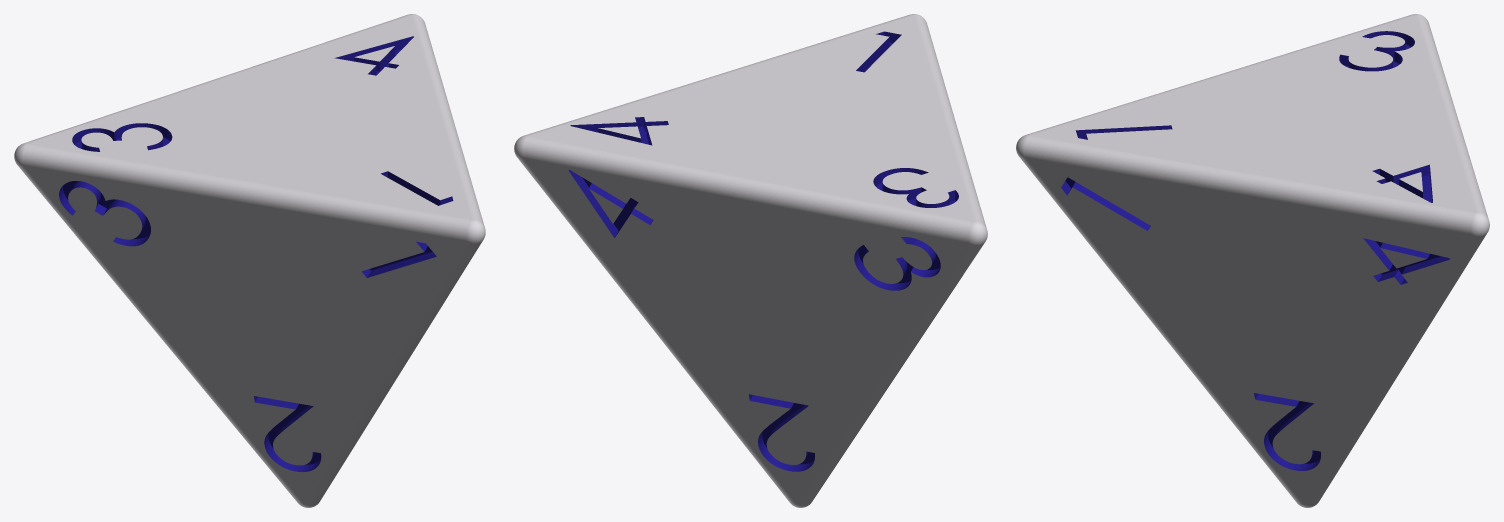
The model's file is Newdadu.fbx.
3 renders of one model, left to right at view 1: azimuth 30°, elevation 25°; view 2: azimuth 150°, elevation 25°; view 3: azimuth 270°, elevation 25°, orthographic.
Parts seen in each view (by area): view 1: 4-faces-chiffres; view 2: 4-faces-chiffres; view 3: 4-faces-chiffres.
Part boxes in pixels (bbox=[...]): 4-faces-chiffres: bbox=[14, 14, 485, 507]; 4-faces-chiffres: bbox=[514, 14, 987, 507]; 4-faces-chiffres: bbox=[1016, 14, 1489, 507].
Size of the model in its own units: 0.0344 by 0.0288 by 0.0321.
